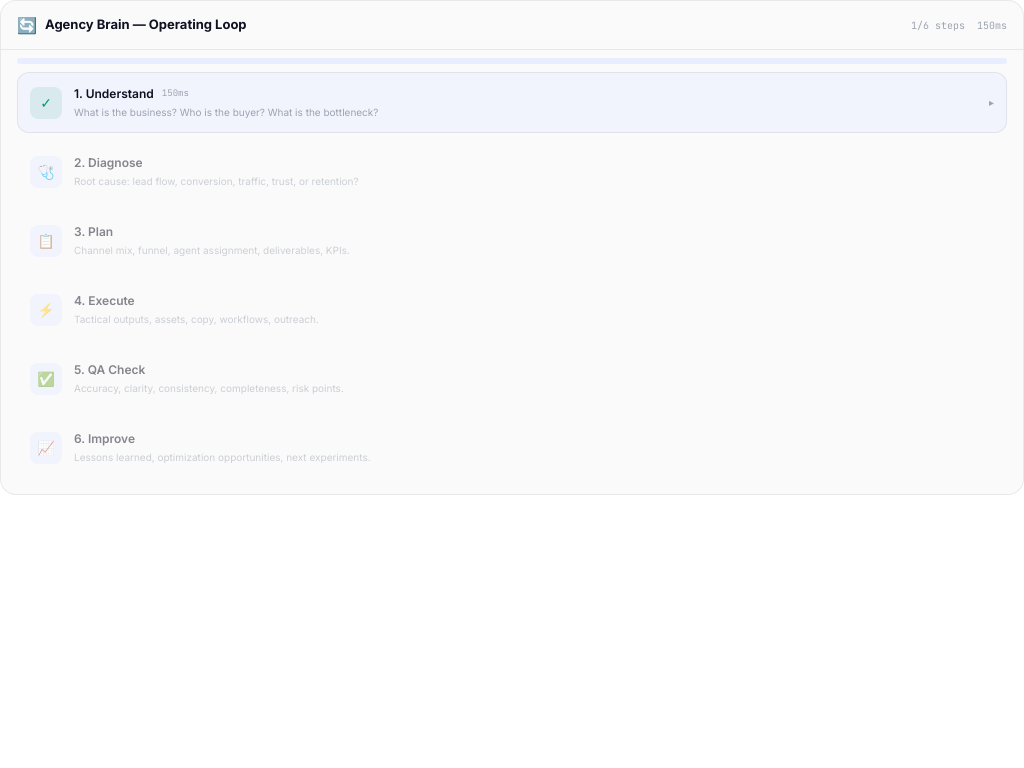
Test: OperatingLoopDashboard › step expand/collapse › expands step output when completed step is clicked
// Click the understand step
Click the button "1. Understand" at x=46, y=102, box [17,72,1007,133]
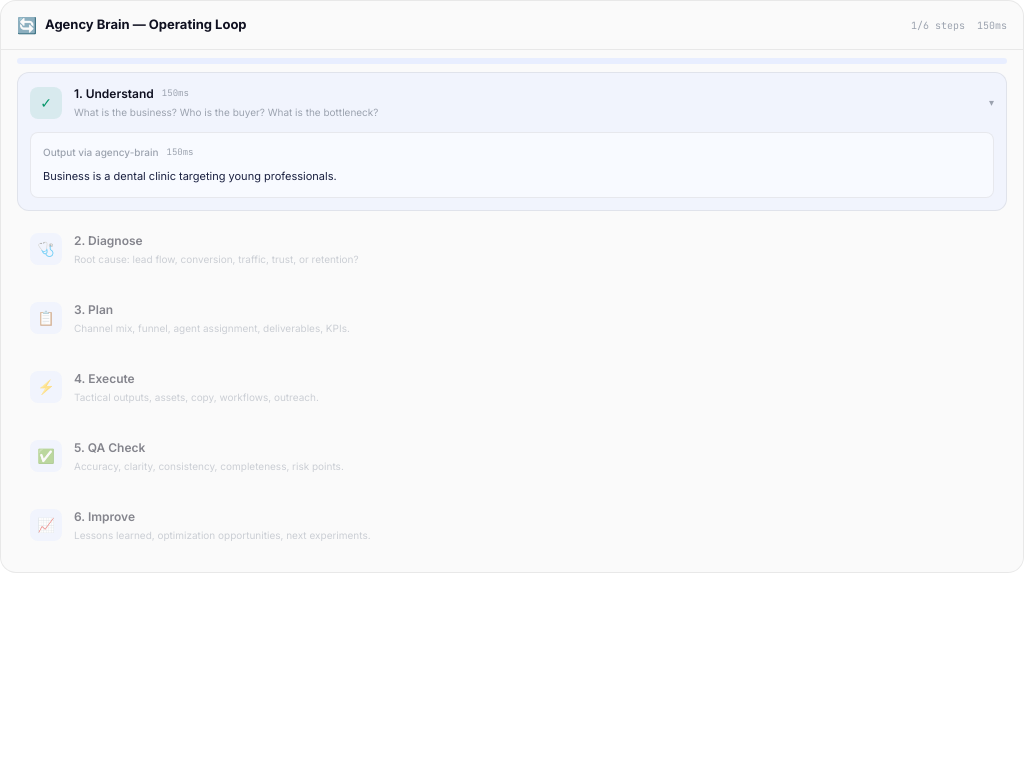
Now the text "Business is a dental clinic targeting young professionals." is shown, box [43,169,337,183]
Now the text "Output via agency-brain" is shown, box [43,145,158,160]
